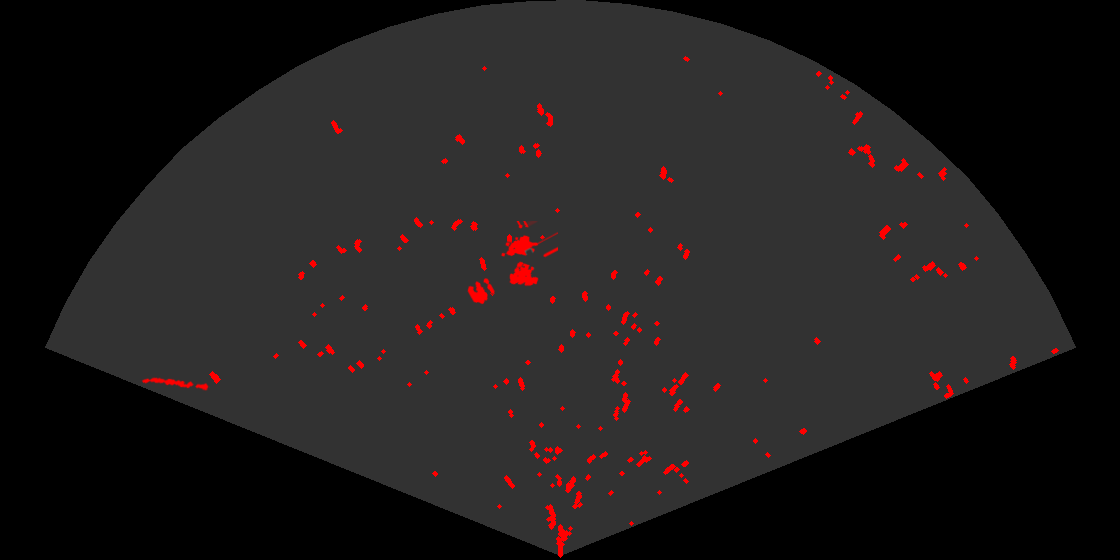ball: (466, 276, 496, 306)
cage: (500, 221, 558, 288)
chain: (140, 376, 210, 392)
